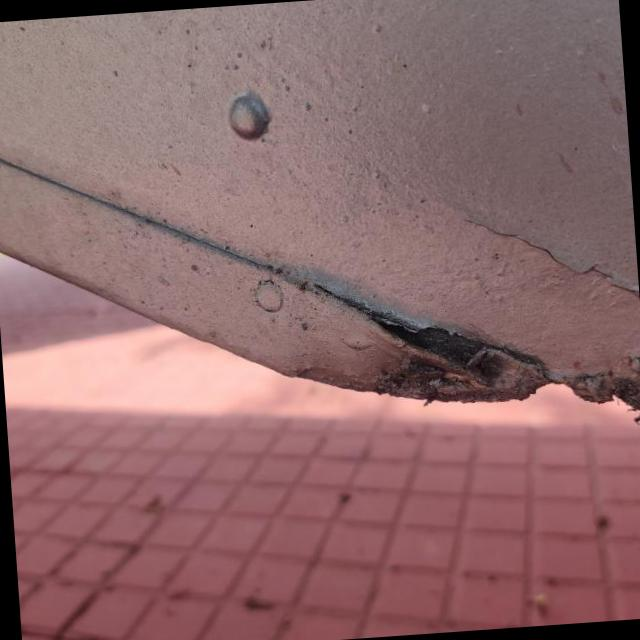Crack: (358, 304, 548, 402)
